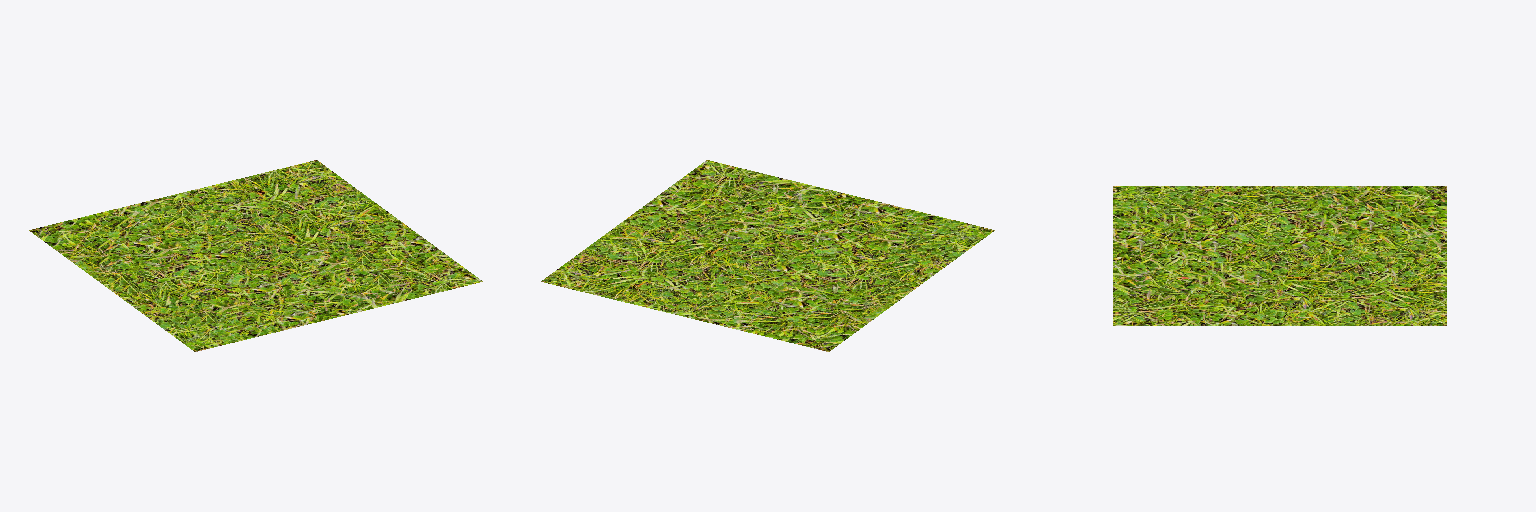
3 renders of one model, left to right at view 1: azimuth 30°, elevation 25°; view 2: azimuth 150°, elevation 25°; view 3: azimuth 270°, elevation 25°, orthographic.
Size of the model in its own units: 1 by 0 by 1.
Materials: 1 (1 with a texture image).